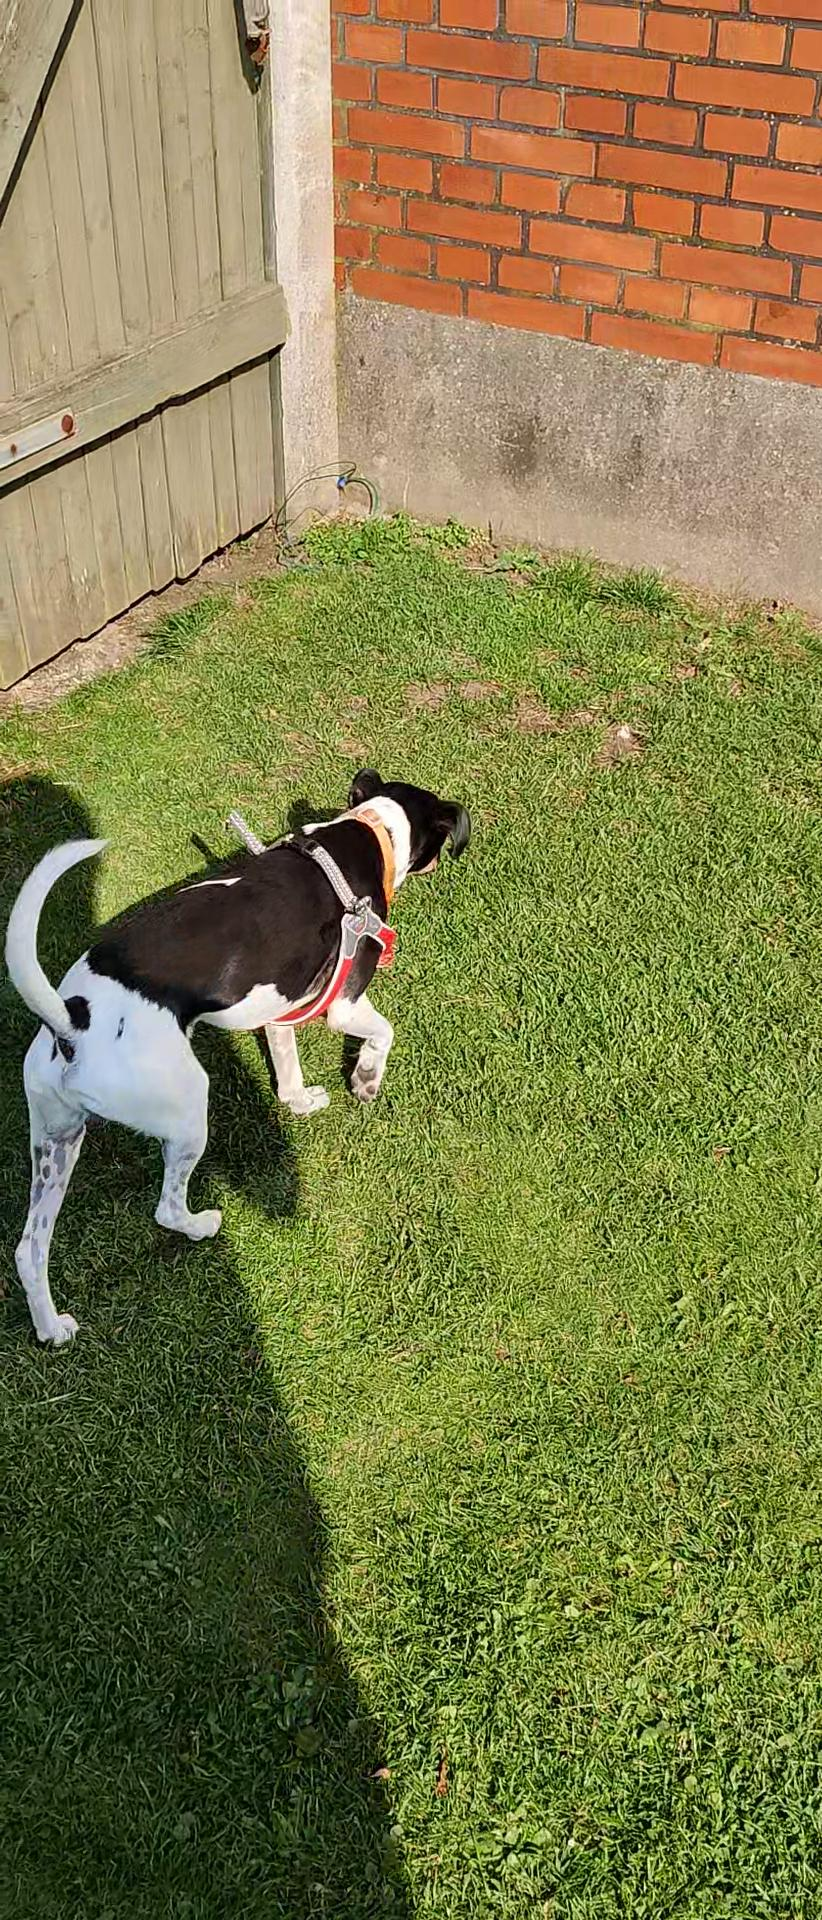Dog: (0, 738, 492, 1384)
